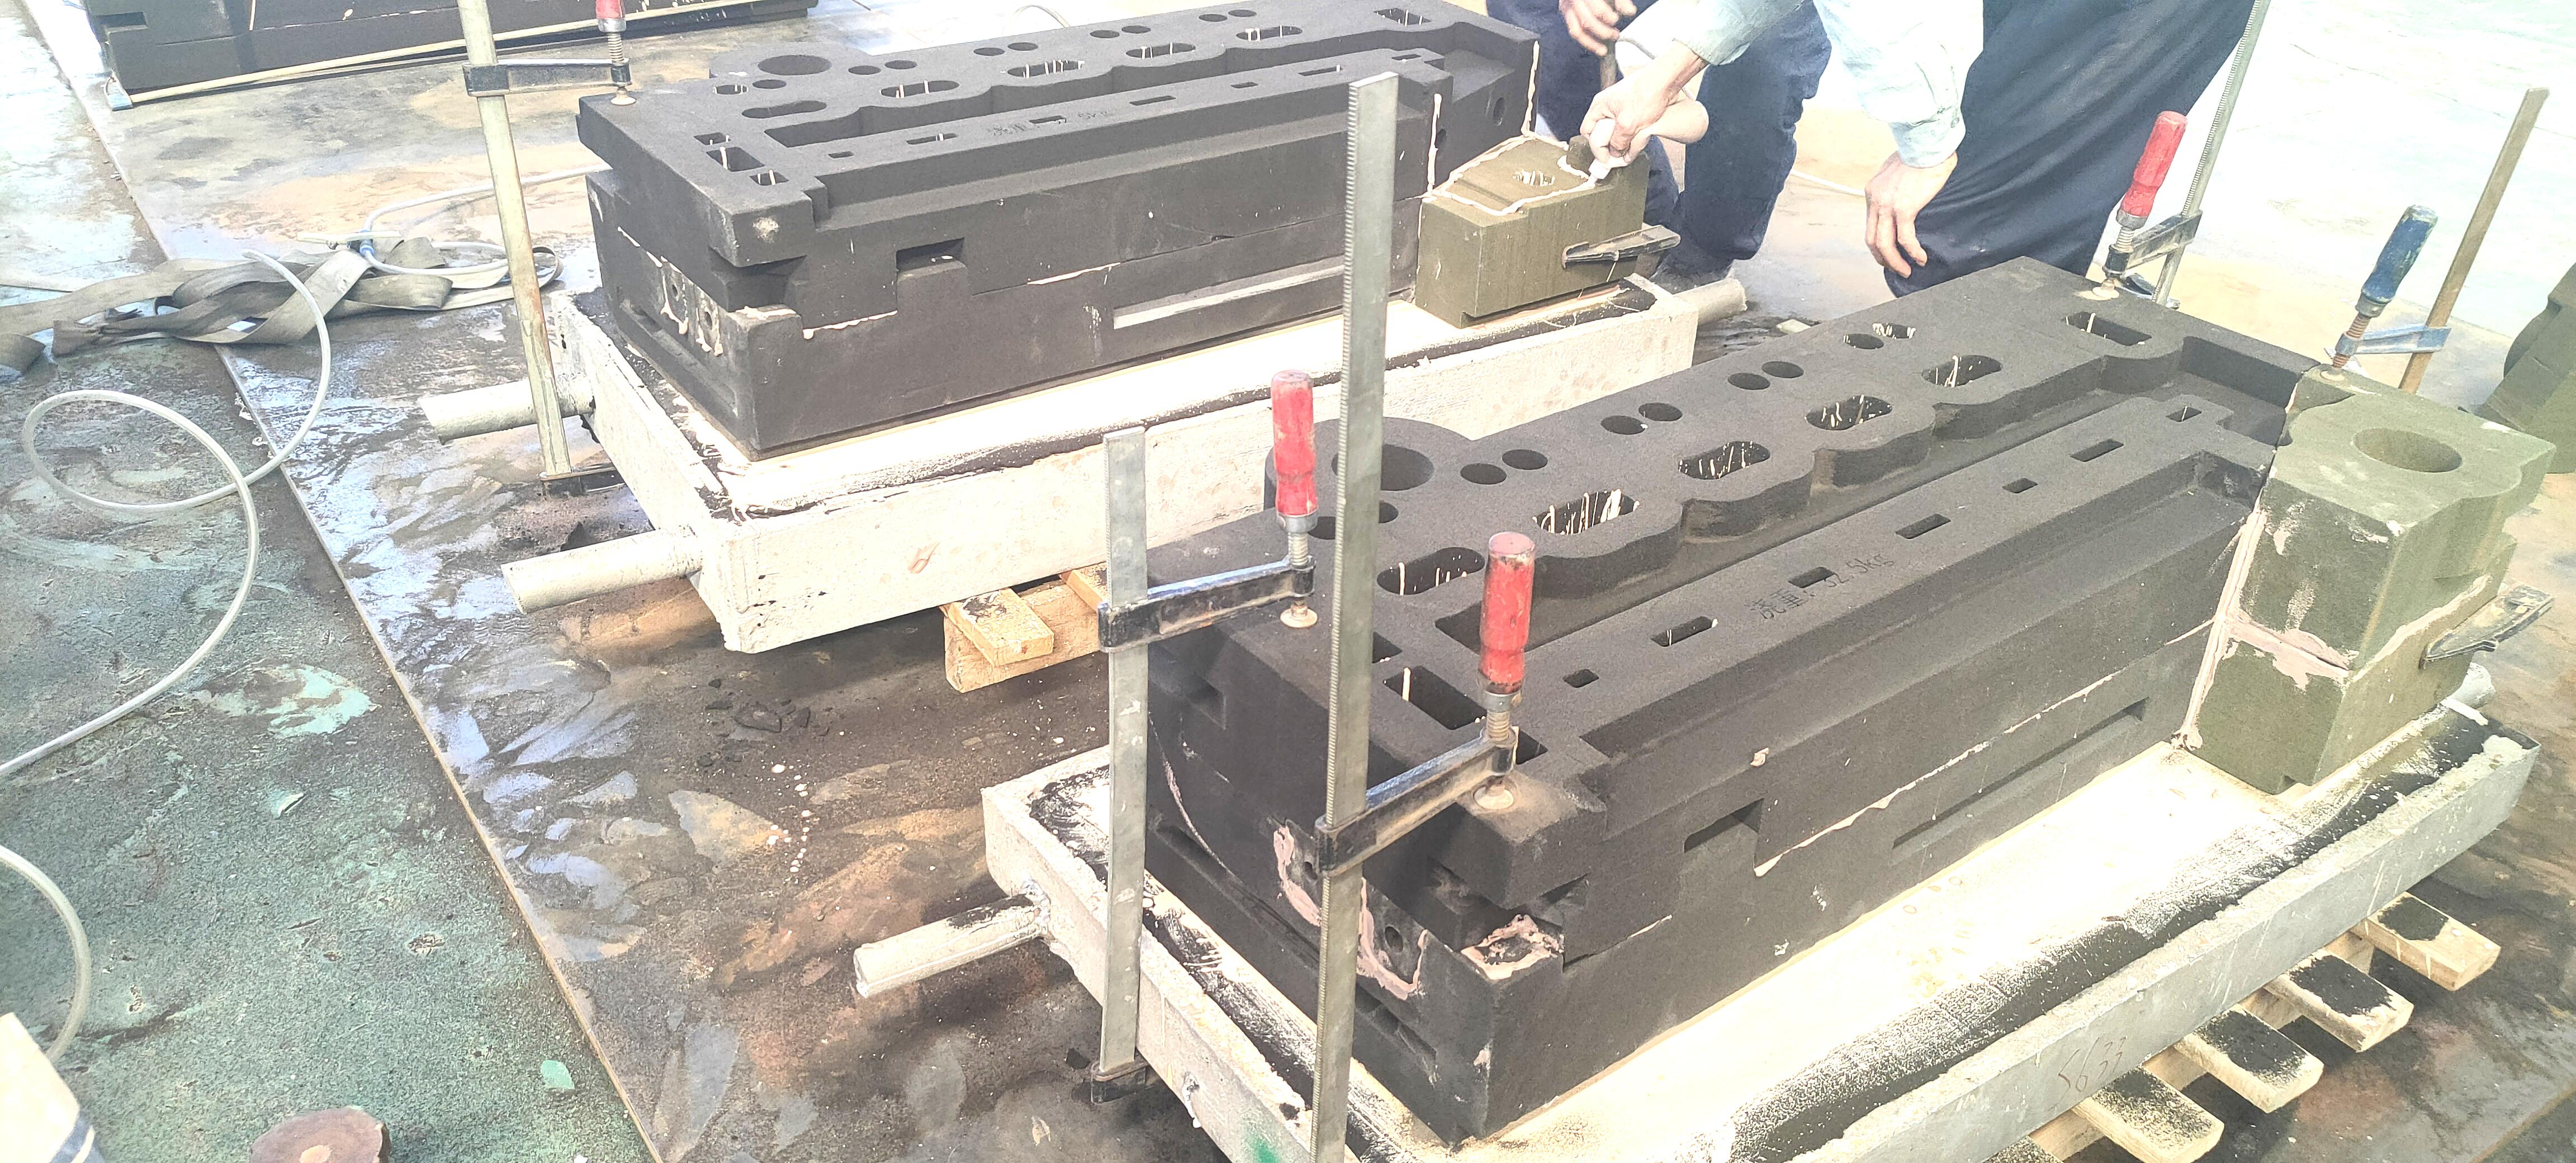pouring hole: (2349, 424, 2464, 473), (1329, 440, 1434, 493), (756, 51, 833, 79)
